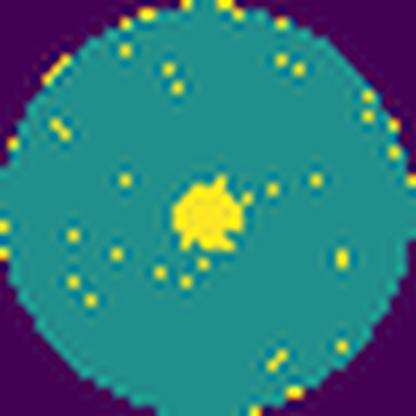Center: (170, 172, 245, 256)
